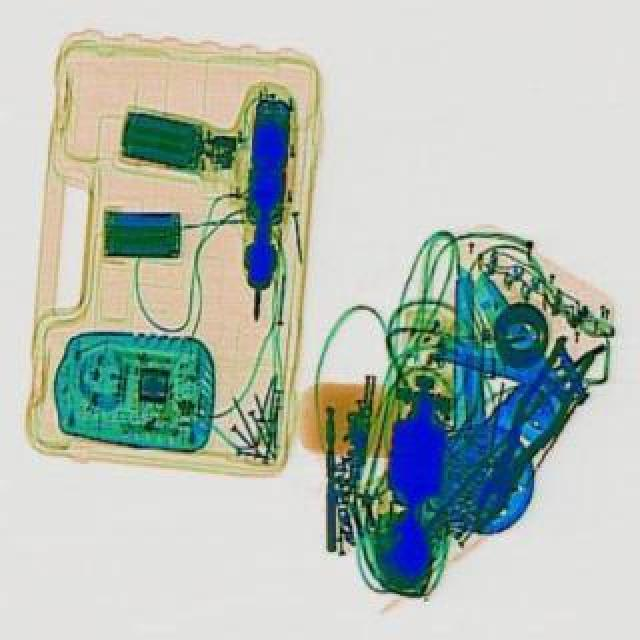wrench: (452, 330, 600, 538)
